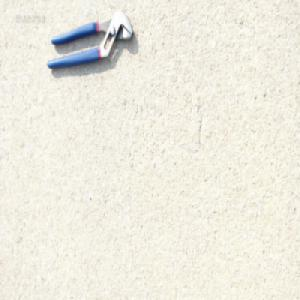Pliers: (46, 9, 134, 70)
